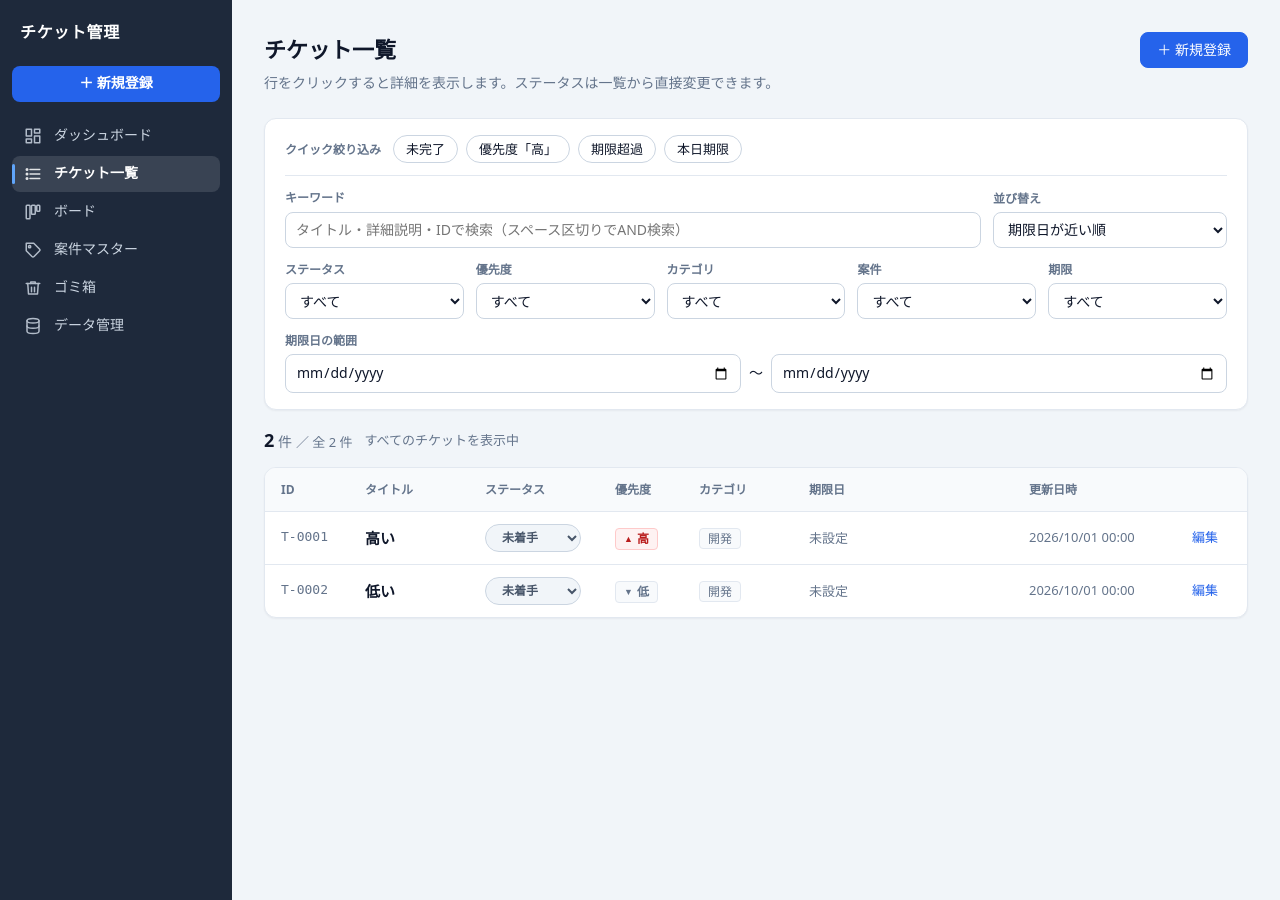
it: 一覧のクイック絞り込み › ボタンで優先度「高」に絞り込み、もう一度押すと解除する
Click the button "優先度「高」".
click(518, 149)  # box top-left (466, 135), bottom-right (570, 163)
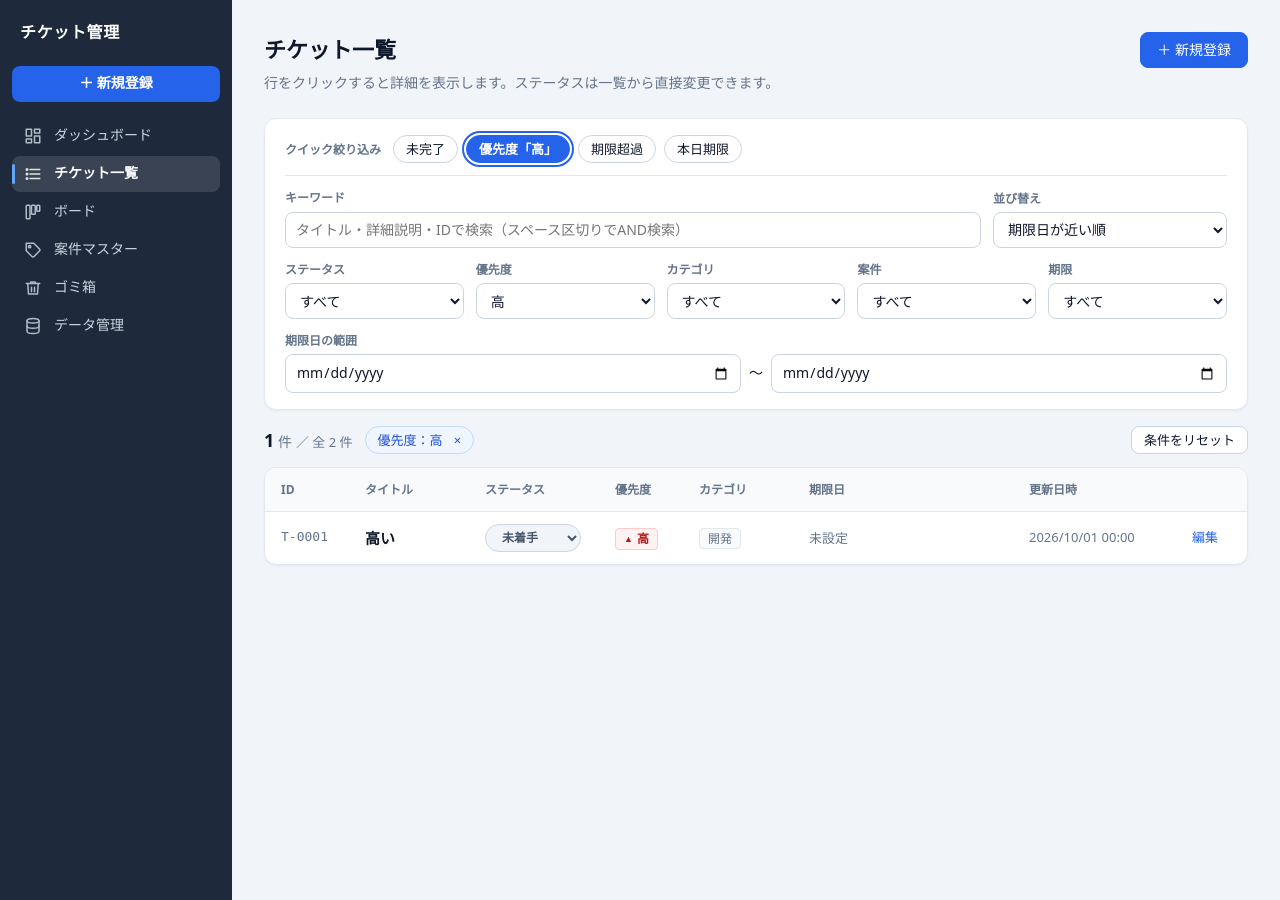
Expected: the link "低い" is gone
Click the button "優先度「高」".
click(518, 149)  # box top-left (466, 135), bottom-right (570, 163)
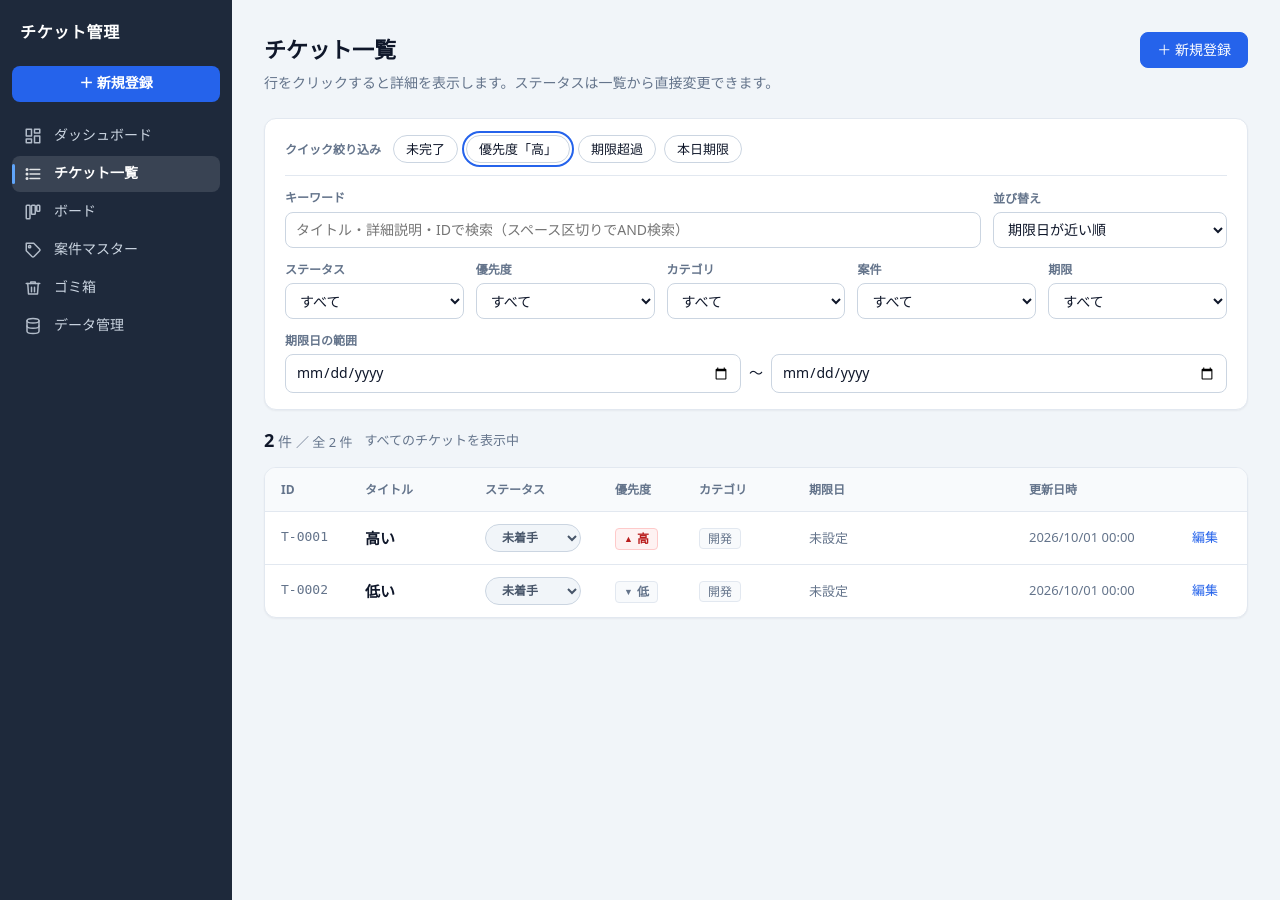
Expected: the link "低い" is shown, top-left (365, 580), bottom-right (395, 600)
